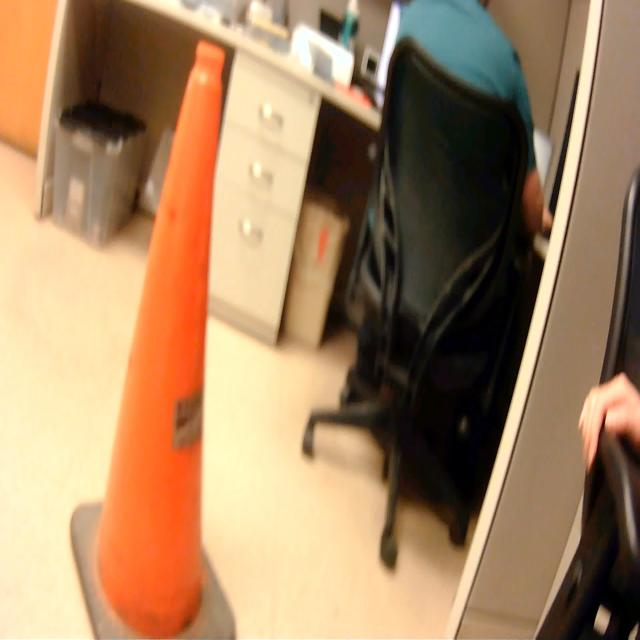traffic cone: (67, 33, 244, 640)
